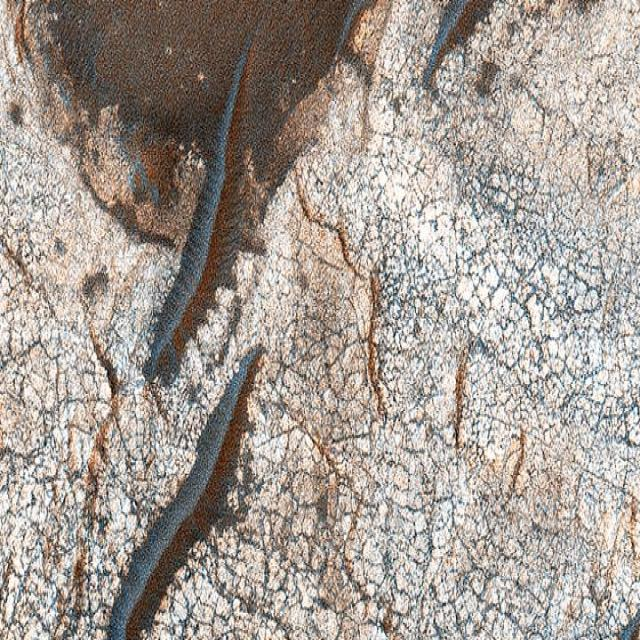Crater: (0, 0, 490, 240)
